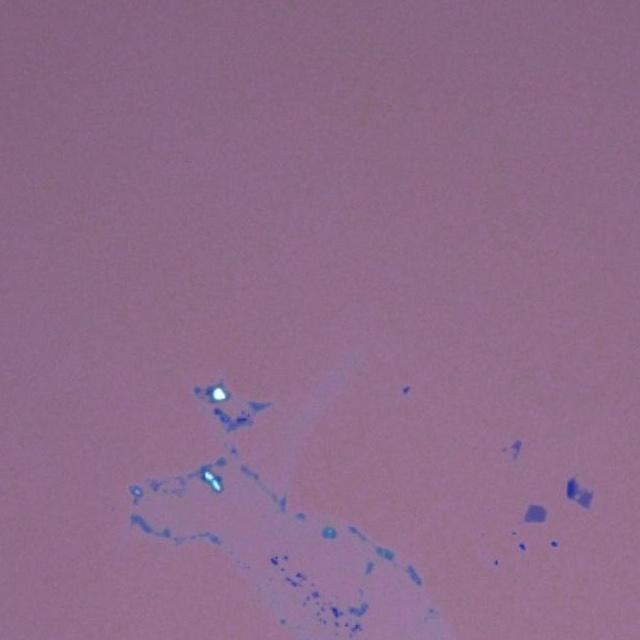monolayer-eWW4: (524, 504, 548, 524), (577, 487, 595, 510)
